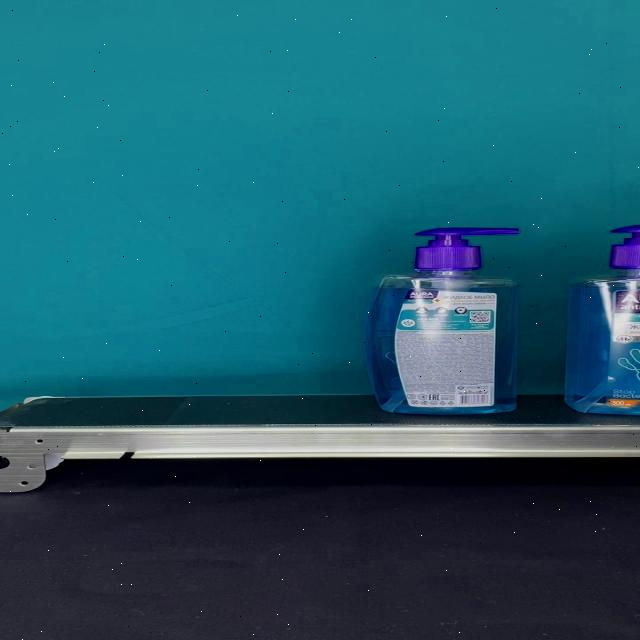Bottle: (362, 229, 521, 415)
Cap: (413, 228, 519, 270)
